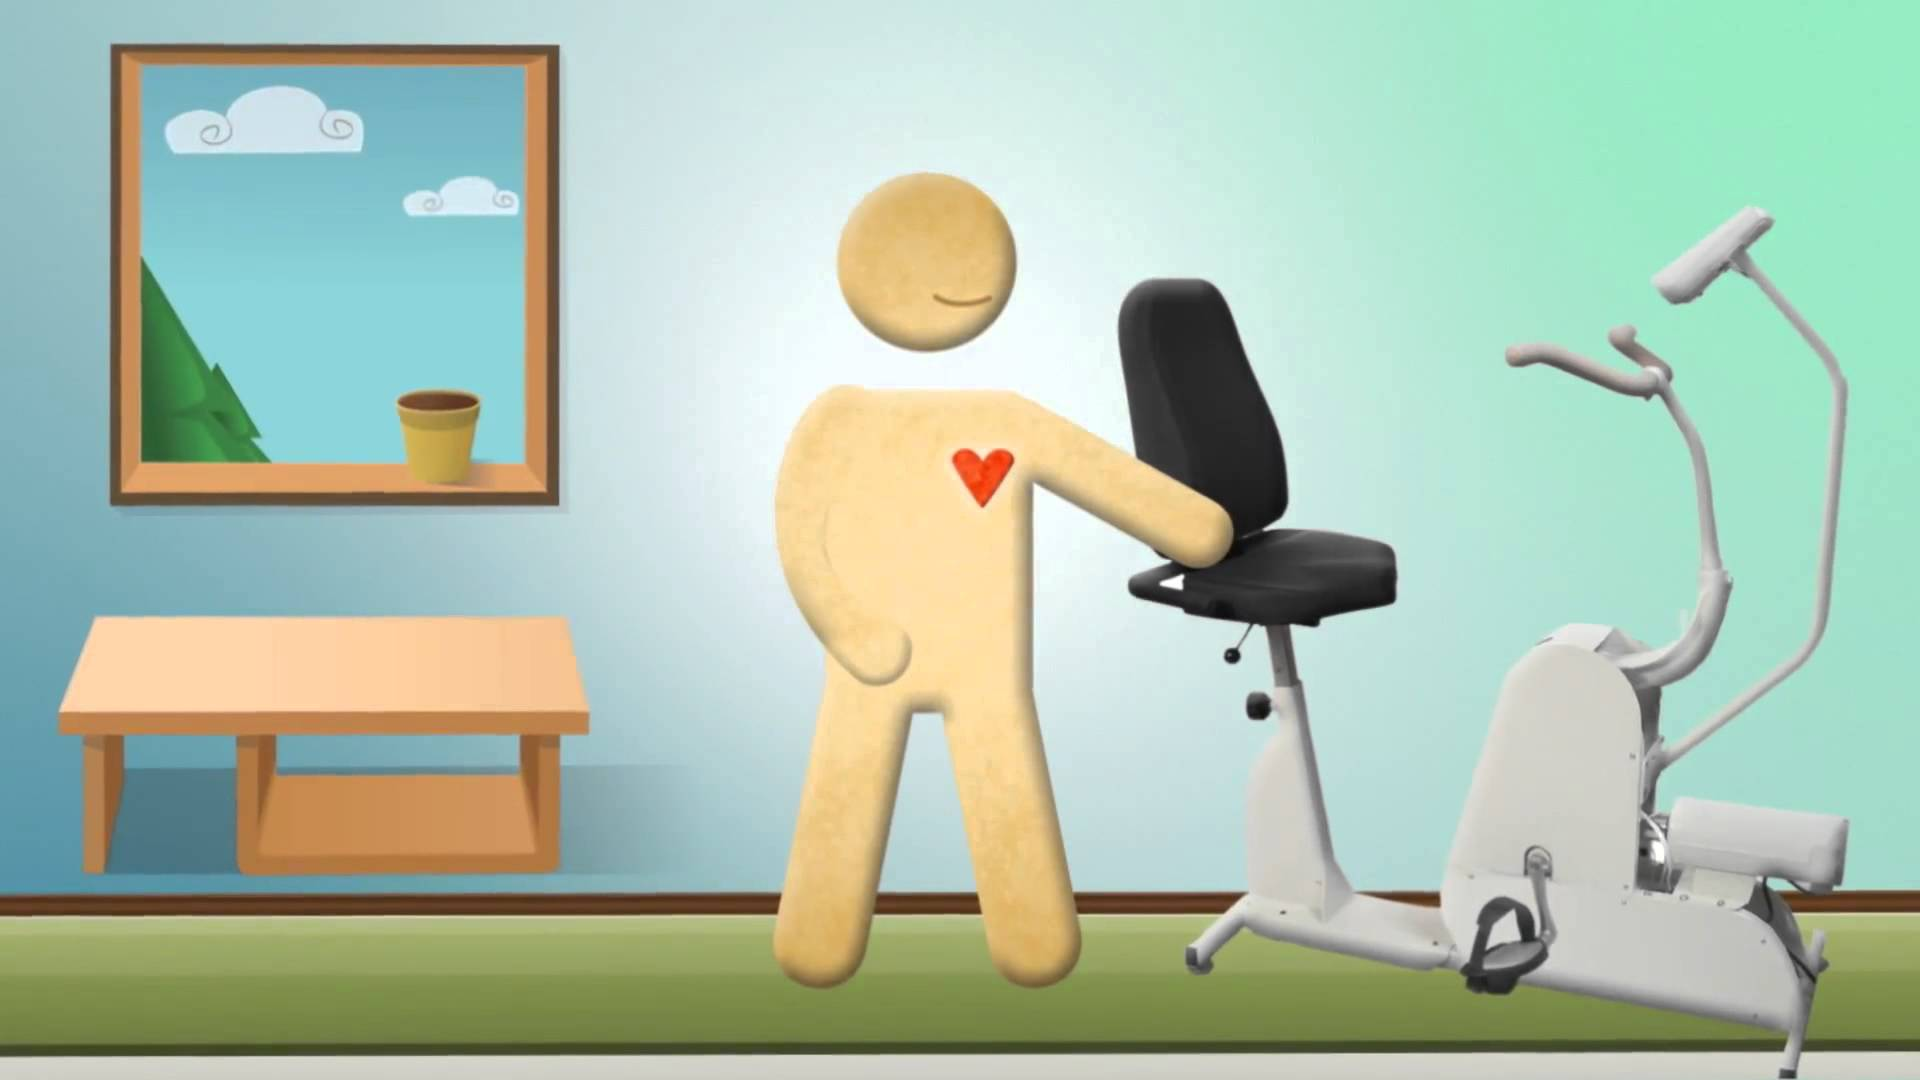gym_bike: (1048, 225, 1886, 1011)
